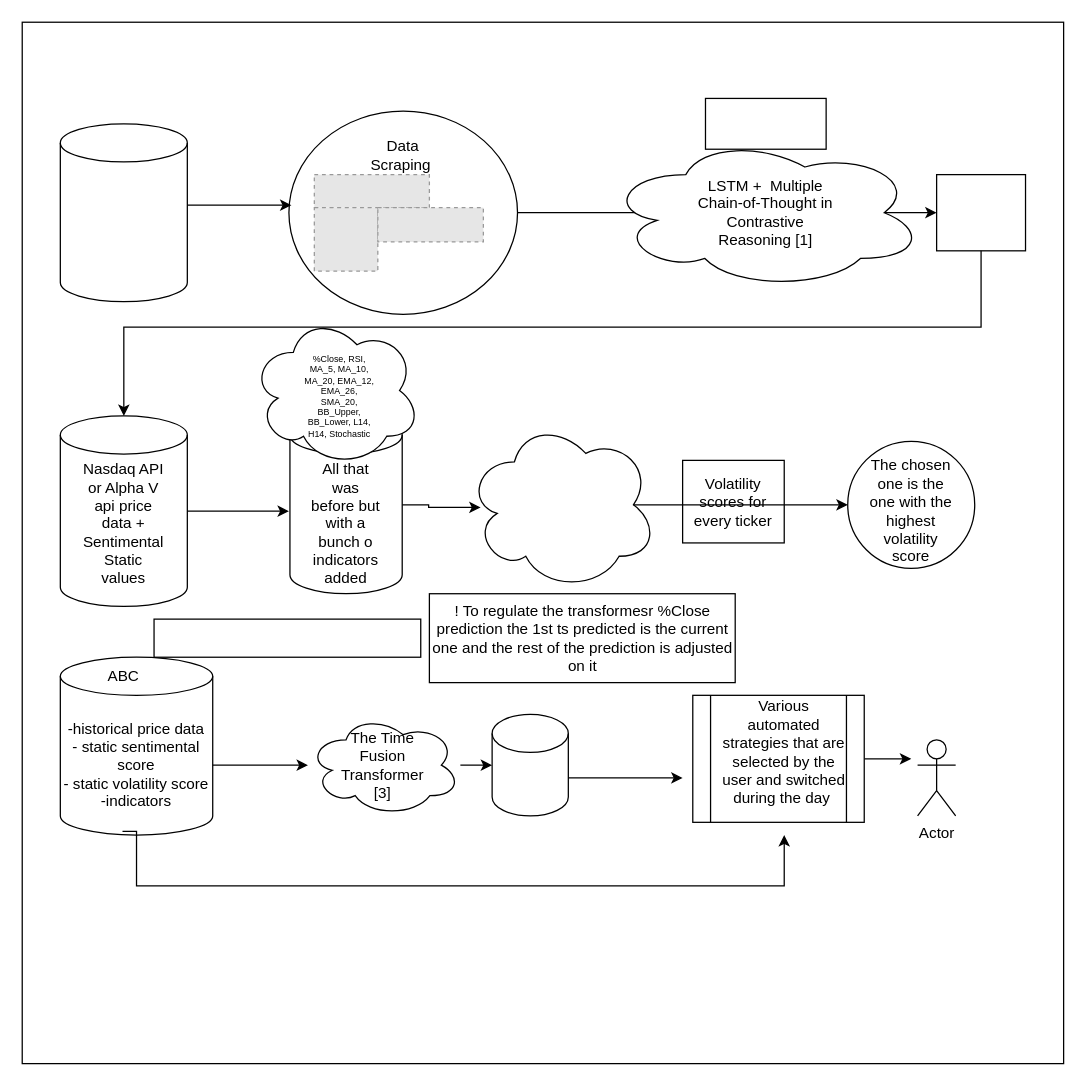
This 1086x1086 diagram has some shape labels left out. Grey dashed boxes stand in for pictures. Each missing label, with the box of its shape:
For example the chosen ticker for today will be ABC: (153, 618, 421, 657)
List of the top 10 tickers from different industries, selection by zacks: (59, 123, 187, 302)
LSTM TS [2] predictions from bout 2 weeks of time steps for every ticker: (465, 418, 657, 591)
n length future ts prediction: (491, 713, 568, 816)
Sentimental analysis: (704, 97, 826, 149)
Static Sentimental score list: (935, 173, 1026, 251)
